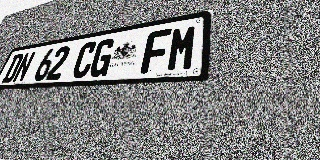2: (45, 45, 72, 80)
6: (32, 47, 58, 81)
C: (70, 41, 98, 78)
D: (1, 53, 25, 83)
F: (140, 28, 172, 73)
G: (87, 38, 116, 77)
M: (166, 24, 198, 72)
N: (11, 51, 36, 82)
